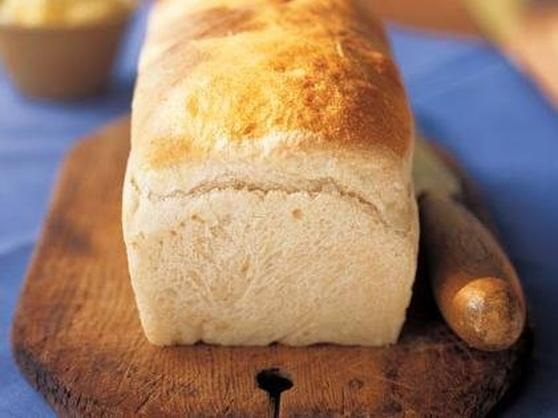white_bread: (122, 5, 433, 353)
